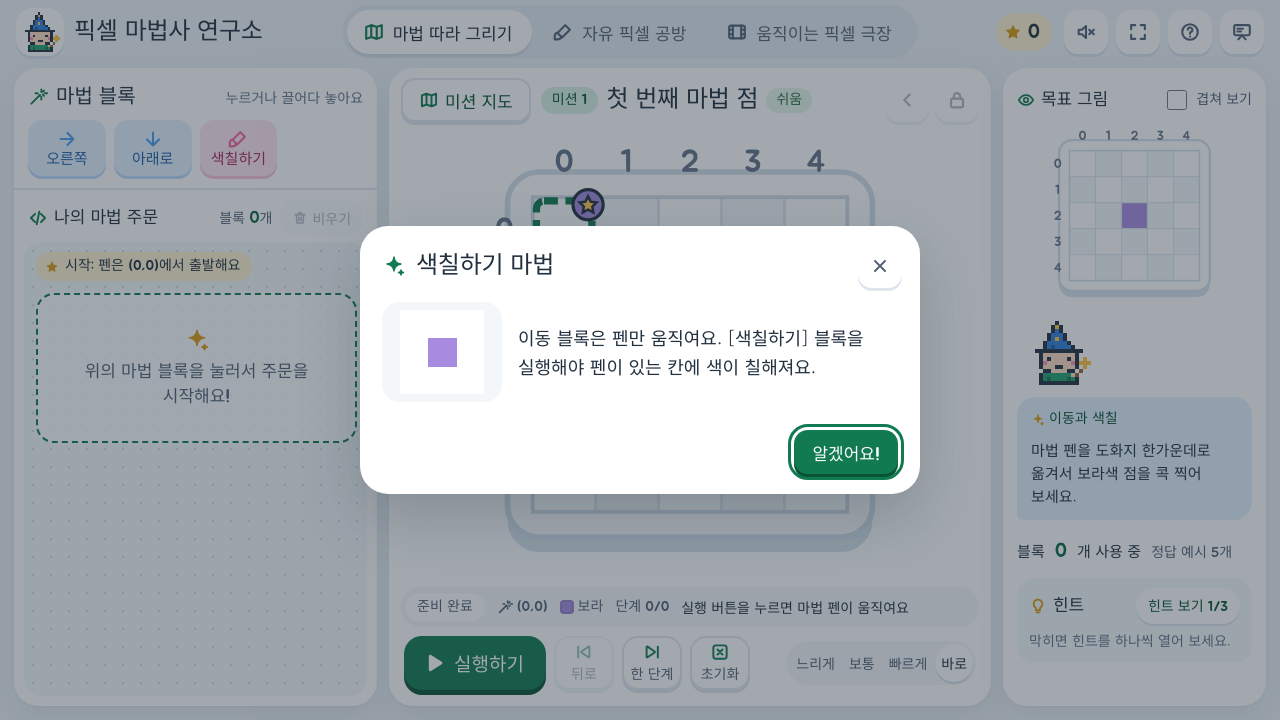
Scenario: 앱 전체 흐름 › 미션 1: 틀린 곳에 칠하면 실패 안내가 나와요
Click the button "알겠어요!" at (846, 452), box [794,430,898,474]
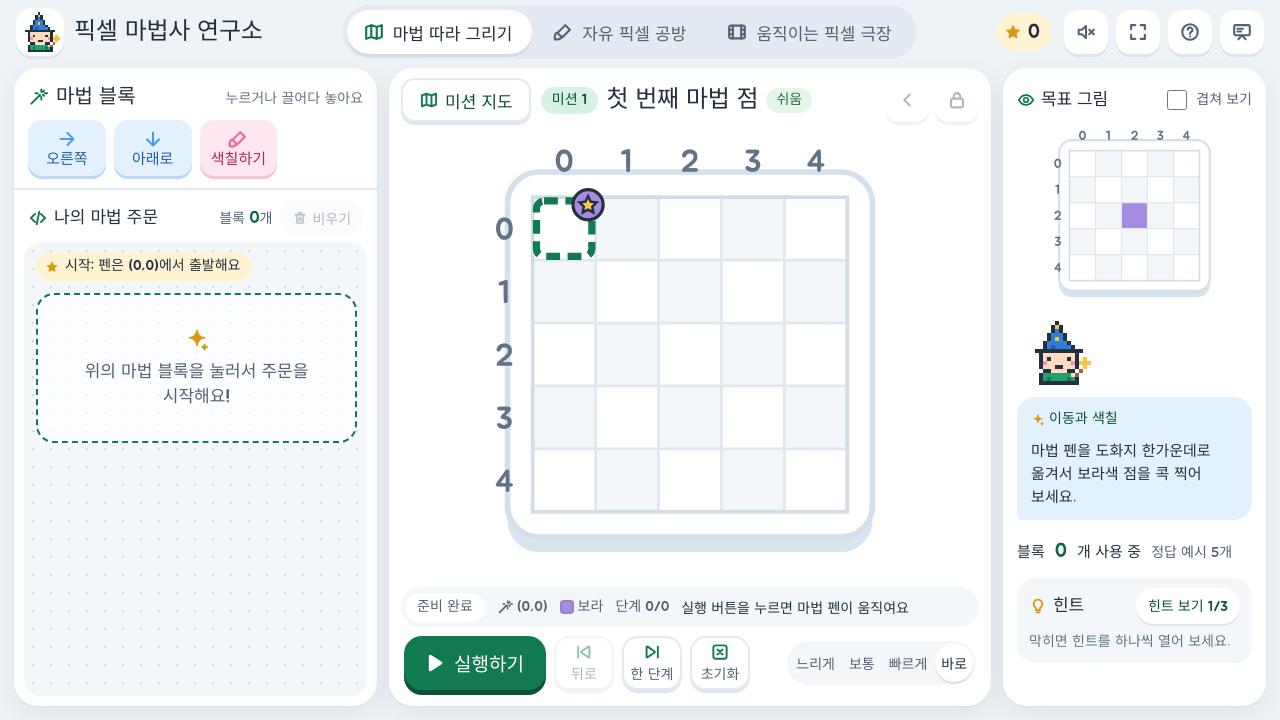
Click the button "색칠하기" at (238, 148), box [200,120,277,176]
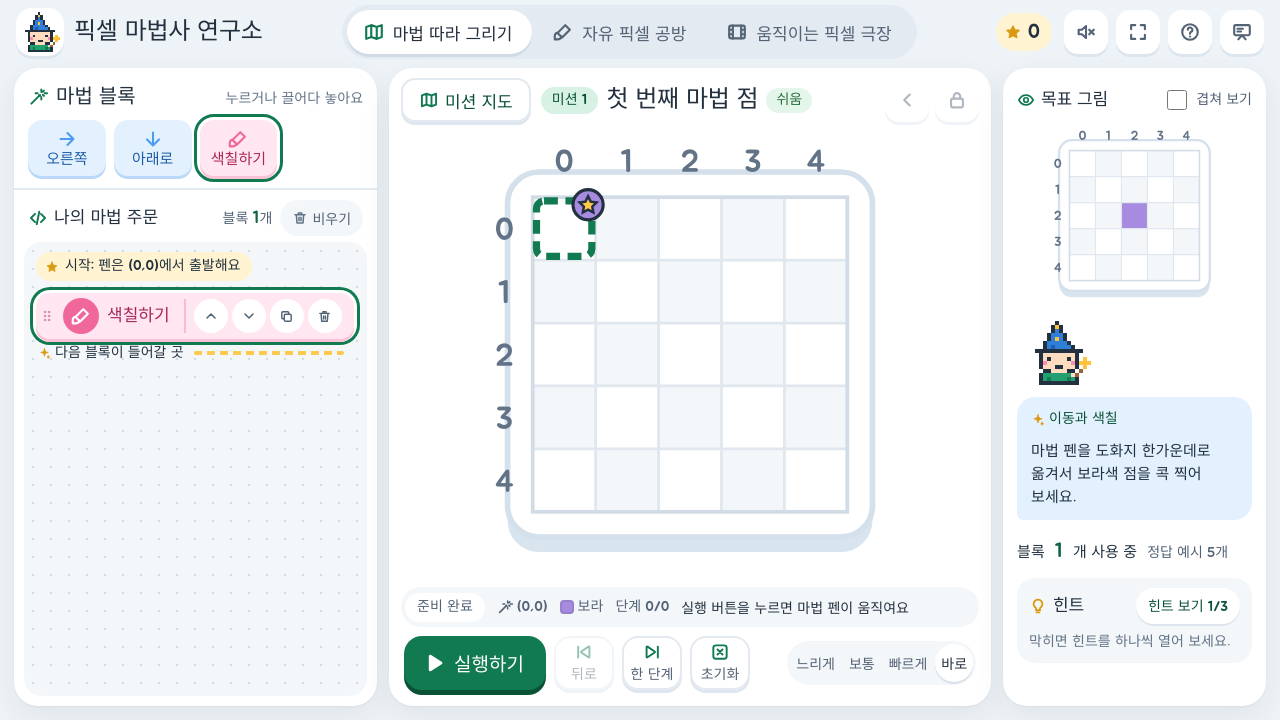
Click the button "실행하기" at (475, 663), box [404,636,546,690]
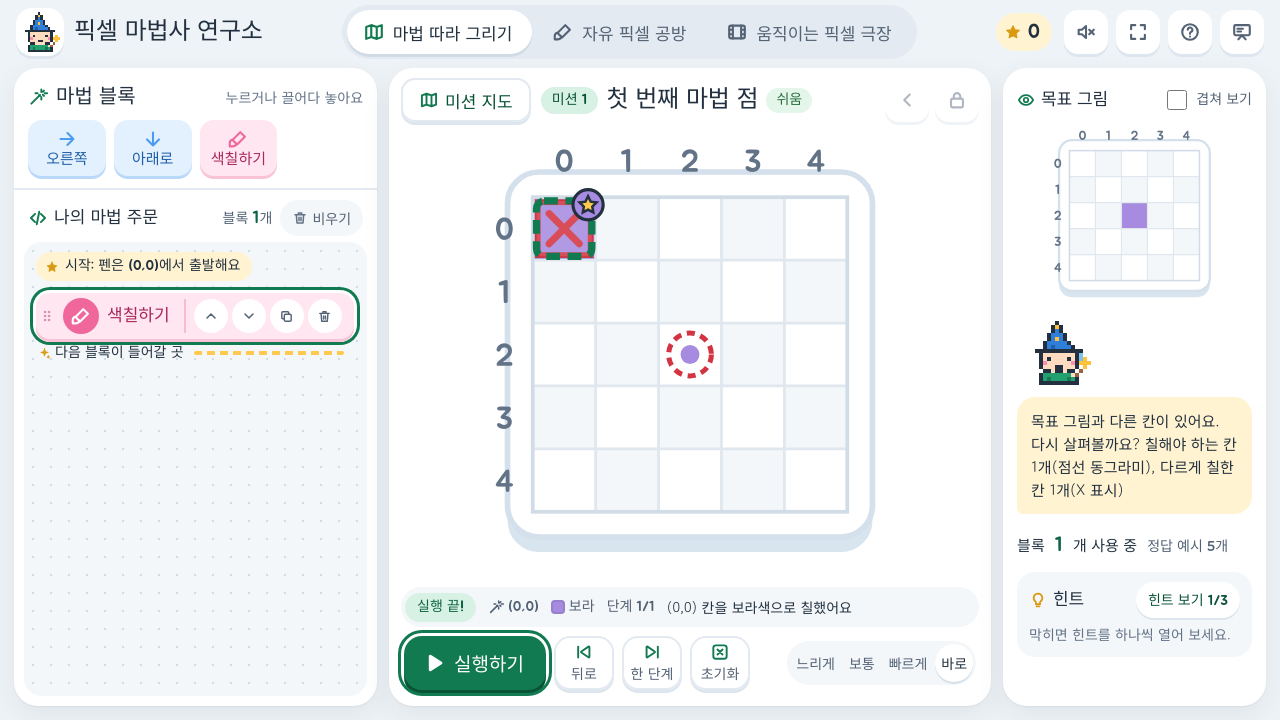
Result: the text "목표 그림과 다른 칸이 있어요" is shown at [1031,410,1237,500]
